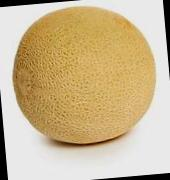Melon Ripe: (6, 0, 162, 151)
